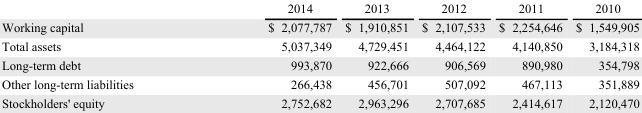table: (1, 1, 638, 109)
table column: (1, 1, 199, 109), (199, 1, 337, 109), (337, 1, 414, 109), (414, 1, 491, 109), (491, 1, 568, 109), (568, 1, 638, 109)
table column header: (1, 1, 638, 17)
table row: (1, 17, 638, 36), (1, 36, 638, 55), (1, 55, 638, 74), (1, 74, 638, 93), (1, 1, 638, 17), (1, 93, 638, 109)
